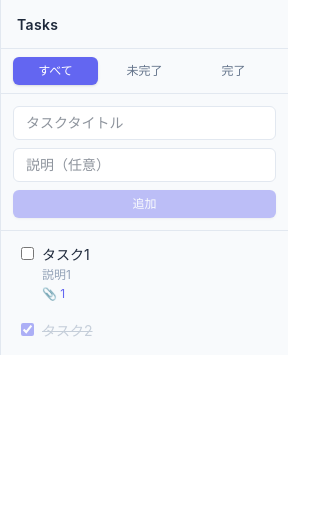
Test: TaskPanel - ファイル紐づけUI › 追加ボタンでファイル選択UIが表示される (Req 5.1)
The image size is (320, 516).
Check: the text "タスク1" is shown, box [42,246,90,263]
Click the button named "Show details for \"タスク1\"".
click(66, 274)  # box [42,246,90,301]
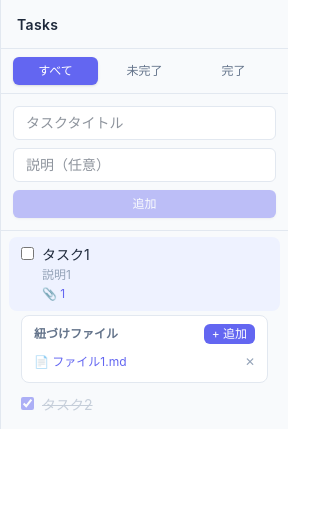
Check: the button with aria-label "Add file link" is shown
Click the button with aria-label "Add file link".
click(229, 334)  # box [204,324,255,344]
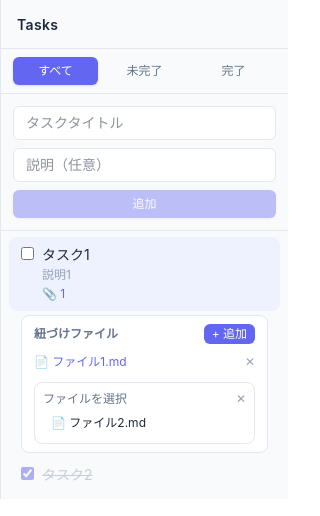
Check: the text "ファイルを選択" is shown, box [43,391,127,407]
Check: the option "📄 ファイル2.md" is shown, box [43,411,246,435]
